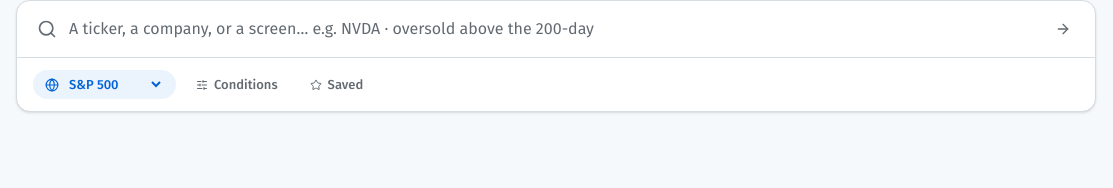
Scenario: SmartSearchBox mixed queries + controls › Saved lists the user's screens
This screenshot has width=1113, height=188.
Click the button with test id "smart-search-saved". click: (336, 85)
box: [298,68,375,101]
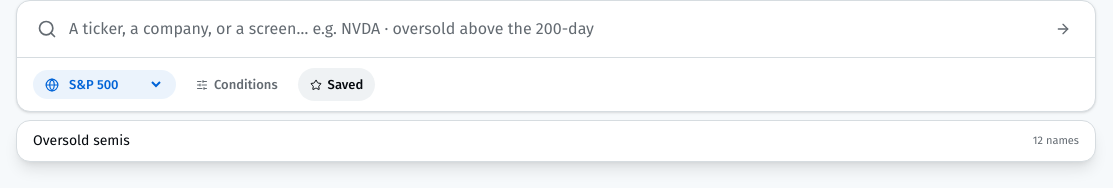
Result: the link with test id "smart-search-saved-s1" shows "Oversold semis" at [33,132,1079,149]
